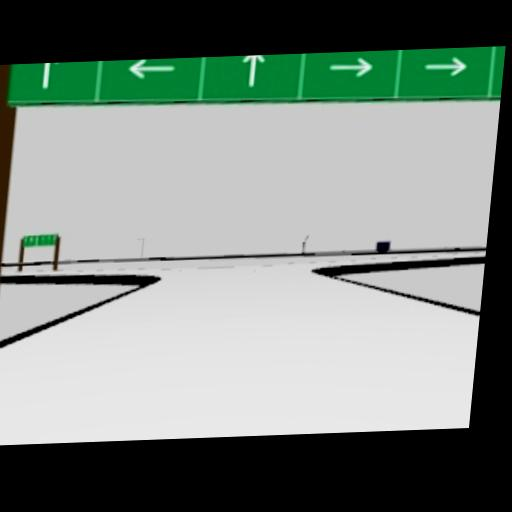Left: (125, 58, 177, 80)
Right: (326, 56, 376, 80), (420, 55, 468, 77)
Straight: (236, 54, 264, 90), (29, 62, 60, 88)
